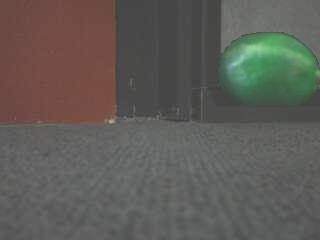Lime: (218, 32, 320, 107)
